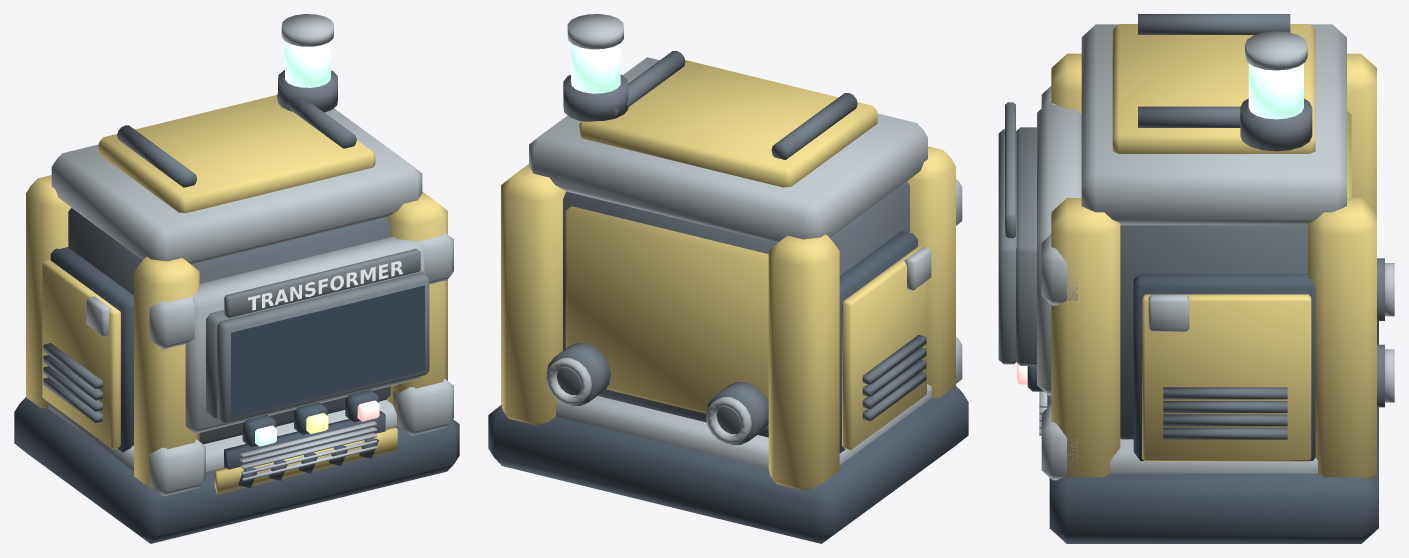
Rendered from transformer_standard.glb.
3 views of the same model, side by side, from view 1: azimuth 30°, elevation 25°; view 2: azimuth 150°, elevation 25°; view 3: azimuth 270°, elevation 25° (orthographic). The views are drawn at different scales.
Visible parts, largest first — view 1: TopCap_steel_legacy_10, Base_black_legacy_0, Frame_yellow_legacy_4, RoofPanel_yellow_legacy_11, LiveViewSurface_glass, CornerGuard_steel_legacy_5, Housing_dark_legacy_2, ServiceDoor_yellow_legacy_7, DisplayFrame_steel_legacy_13, LiveViewSurfaceFrame_frame, TypePlate_frame, SidePanel_black_legacy_6 (+13 smaller); view 2: Frame_yellow_legacy_4, Armor_yellow_legacy_3, Base_black_legacy_0, TopCap_steel_legacy_10, RoofPanel_yellow_legacy_11, ServiceDoor_yellow_legacy_7, Housing_dark_legacy_2, Skirt_steel_legacy_1, RearPort_dark_legacy_29, LiftRail_dark_legacy_12, SideVents_dark_legacy_8, SidePanel_black_legacy_6 (+6 smaller); view 3: Frame_yellow_legacy_4, TopCap_steel_legacy_10, Base_black_legacy_0, ServiceDoor_yellow_legacy_7, RoofPanel_yellow_legacy_11, Housing_dark_legacy_2, DisplayFrame_steel_legacy_13, SideVents_dark_legacy_8, SidePanel_black_legacy_6, LiftRail_dark_legacy_12, ScreenMount_frame, CornerGuard_steel_legacy_5 (+9 smaller).
Part boxes in pixels (x1,y1,x2,y2): TopCap_steel_legacy_10: (51, 108, 422, 264); Base_black_legacy_0: (14, 397, 459, 543); Frame_yellow_legacy_4: (26, 175, 447, 491); RoofPanel_yellow_legacy_11: (98, 95, 375, 213); LiveViewSurface_glass: (231, 285, 424, 417); CornerGuard_steel_legacy_5: (149, 232, 453, 496); Housing_dark_legacy_2: (68, 208, 390, 444); ServiceDoor_yellow_legacy_7: (42, 260, 120, 449); DisplayFrame_steel_legacy_13: (185, 236, 424, 433); LiveViewSurfaceFrame_frame: (217, 272, 429, 423); TypePlate_frame: (224, 248, 420, 318); SidePanel_black_legacy_6: (50, 247, 133, 452); Frame_yellow_legacy_4: (501, 146, 955, 490); Armor_yellow_legacy_3: (565, 206, 768, 428); Base_black_legacy_0: (488, 386, 968, 543); TopCap_steel_legacy_10: (529, 57, 927, 242); RoofPanel_yellow_legacy_11: (579, 60, 877, 187); ServiceDoor_yellow_legacy_7: (842, 246, 926, 450); Housing_dark_legacy_2: (563, 181, 909, 437); Skirt_steel_legacy_1: (556, 384, 931, 468); RearPort_dark_legacy_29: (546, 343, 768, 444); LiftRail_dark_legacy_12: (615, 51, 857, 159); SideVents_dark_legacy_8: (862, 335, 926, 421); SidePanel_black_legacy_6: (839, 231, 917, 453); Frame_yellow_legacy_4: (1051, 53, 1376, 478); TopCap_steel_legacy_10: (1081, 24, 1346, 225); Base_black_legacy_0: (1049, 321, 1378, 543); ServiceDoor_yellow_legacy_7: (1142, 294, 1311, 461); RoofPanel_yellow_legacy_11: (1112, 24, 1315, 153); Housing_dark_legacy_2: (1120, 225, 1307, 439); DisplayFrame_steel_legacy_13: (1037, 102, 1081, 395); SideVents_dark_legacy_8: (1163, 387, 1287, 439); SidePanel_black_legacy_6: (1133, 273, 1315, 460); LiftRail_dark_legacy_12: (1138, 14, 1290, 127); ScreenMount_frame: (1016, 127, 1036, 365); CornerGuard_steel_legacy_5: (1041, 86, 1077, 480).
Size of the model in its own units: 1.43 by 1.65 by 1.27.
